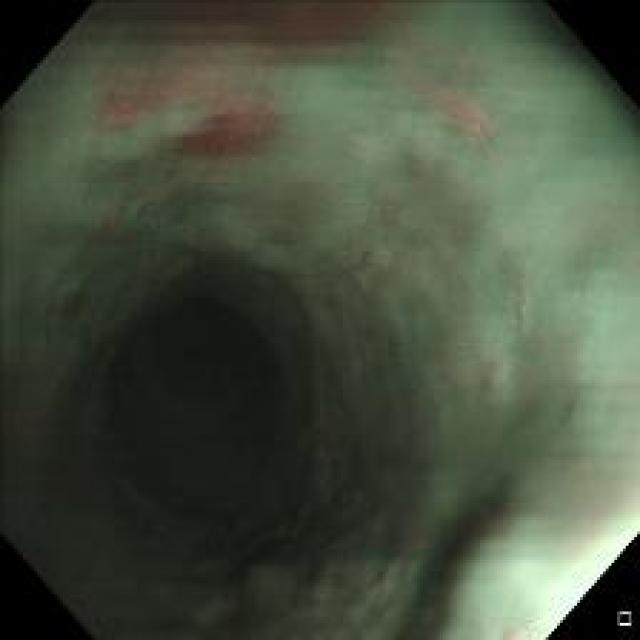blur: (38, 45, 595, 608)
contrast: (41, 230, 411, 628)
saturation: (509, 524, 636, 636)
